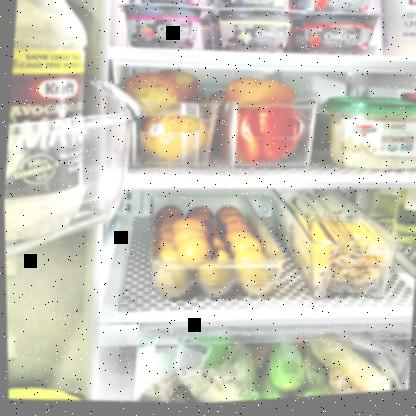apple: (140, 114, 208, 165), (124, 71, 179, 107)
cucumber: (263, 345, 309, 397), (294, 368, 333, 400), (259, 386, 290, 402)
eggs: (176, 238, 212, 265), (172, 228, 207, 249), (233, 248, 265, 267), (172, 217, 204, 235), (231, 237, 261, 255), (216, 209, 242, 228), (155, 206, 182, 220), (187, 207, 213, 221), (226, 232, 250, 247), (226, 222, 247, 235), (210, 251, 229, 265), (158, 251, 175, 265), (208, 237, 224, 251), (154, 229, 171, 242)
yoghurt: (119, 1, 213, 56), (209, 8, 302, 62), (298, 12, 382, 65), (296, 0, 381, 22), (208, 0, 296, 18), (118, 0, 211, 15)
